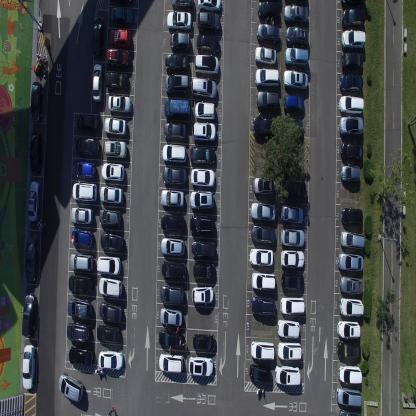car: (58, 371, 84, 404), (24, 237, 38, 284), (251, 115, 278, 139), (22, 292, 36, 337), (22, 343, 35, 391), (191, 76, 217, 100), (27, 179, 41, 223), (163, 98, 191, 120), (162, 164, 188, 187), (250, 294, 276, 317), (283, 68, 309, 91), (274, 364, 301, 386), (75, 136, 100, 159), (194, 53, 219, 76), (340, 229, 365, 252), (29, 130, 42, 174), (166, 10, 192, 32), (161, 142, 187, 164), (250, 201, 276, 223), (254, 67, 280, 89), (338, 296, 364, 318), (98, 275, 122, 298), (72, 180, 97, 202), (107, 93, 132, 115), (104, 70, 129, 92), (189, 214, 214, 236), (188, 354, 213, 376), (284, 45, 309, 67), (341, 8, 366, 30), (340, 29, 365, 51), (336, 386, 361, 408), (164, 74, 190, 95), (190, 145, 216, 166), (191, 239, 217, 260), (160, 260, 186, 281), (158, 352, 184, 373), (250, 271, 276, 292), (338, 94, 364, 115), (30, 81, 43, 122), (67, 320, 90, 343), (106, 48, 130, 70), (110, 6, 134, 28), (92, 14, 104, 58), (191, 166, 215, 188), (280, 204, 304, 226), (256, 23, 280, 45), (339, 73, 363, 95), (338, 364, 362, 386), (189, 189, 214, 210), (160, 212, 185, 233), (280, 227, 305, 248), (250, 223, 275, 244), (283, 4, 308, 25), (338, 252, 363, 273), (159, 236, 185, 256), (158, 328, 184, 348), (277, 318, 300, 340), (282, 117, 304, 140), (96, 323, 120, 344), (99, 301, 123, 322), (101, 161, 125, 182), (103, 116, 127, 137), (164, 53, 188, 74), (192, 121, 216, 142), (160, 187, 184, 208), (282, 180, 306, 201), (98, 350, 123, 370), (96, 255, 121, 275), (67, 298, 92, 318), (159, 284, 184, 304), (250, 340, 275, 360), (280, 295, 305, 315), (336, 340, 361, 360), (276, 341, 302, 360), (249, 362, 271, 384), (256, 90, 278, 112), (197, 12, 220, 33), (340, 141, 363, 162), (68, 274, 92, 294), (99, 184, 123, 204), (103, 138, 127, 158), (91, 63, 103, 103), (159, 306, 183, 326), (250, 247, 274, 267), (280, 248, 304, 268), (339, 116, 363, 136), (339, 276, 363, 296), (257, 0, 283, 18), (100, 232, 123, 252), (70, 228, 93, 248), (69, 346, 92, 366), (99, 208, 122, 228), (76, 113, 99, 133), (193, 260, 216, 280), (193, 332, 216, 352), (285, 25, 308, 45), (340, 206, 363, 226), (337, 320, 360, 340), (196, 34, 220, 53), (340, 51, 364, 70), (194, 100, 216, 120), (164, 121, 186, 141), (192, 284, 214, 304), (252, 176, 274, 196), (70, 252, 93, 271), (70, 206, 93, 225), (281, 272, 304, 291), (169, 32, 190, 52), (255, 46, 276, 66), (110, 28, 132, 47), (76, 160, 96, 180), (284, 94, 304, 114), (340, 164, 360, 182), (198, 0, 221, 12), (170, 0, 193, 10), (340, 0, 366, 8), (339, 408, 362, 416), (111, 0, 134, 7)
